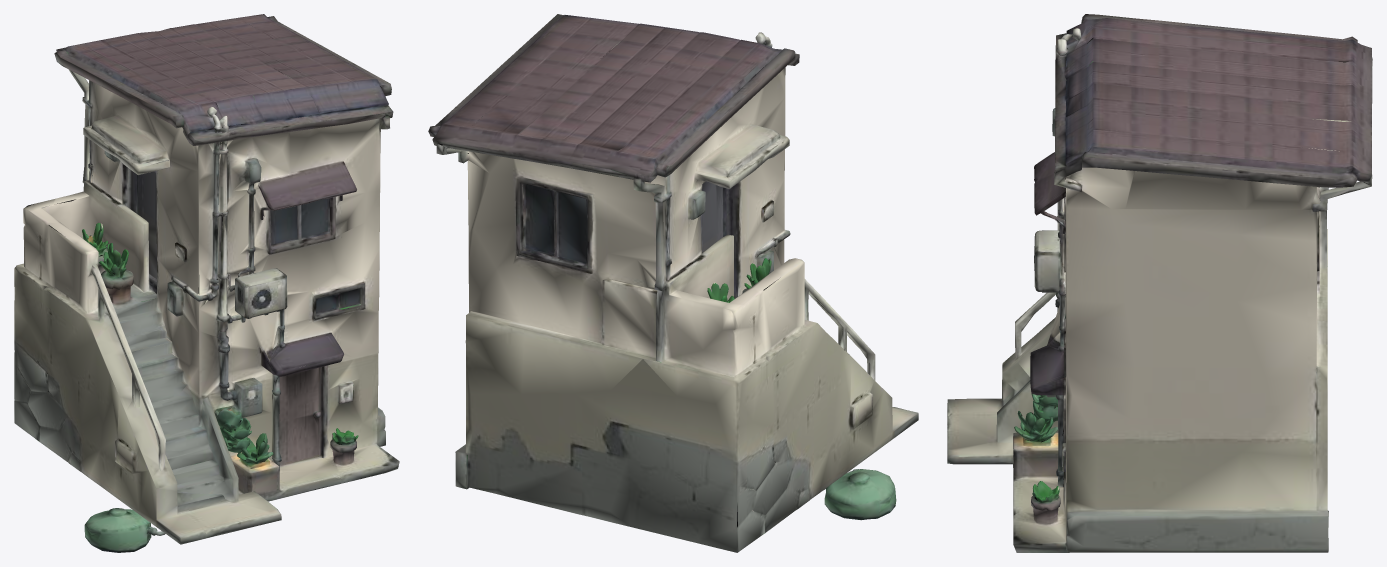
The model's file is building9.glb.
3 renders of one model, left to right at view 1: azimuth 30°, elevation 25°; view 2: azimuth 150°, elevation 25°; view 3: azimuth 270°, elevation 25°, orthographic. The views are drawn at different scales.
Parts seen in each view (by area): view 1: lo; view 2: lo; view 3: lo.
Part boxes in pixels (bbox=[...]): lo: bbox=[14, 14, 399, 552]; lo: bbox=[428, 14, 918, 552]; lo: bbox=[947, 14, 1372, 552].
Bounding box in the file's own units: 0.7737 × 0.9999 × 0.8198.
1 material, 1 textured.
